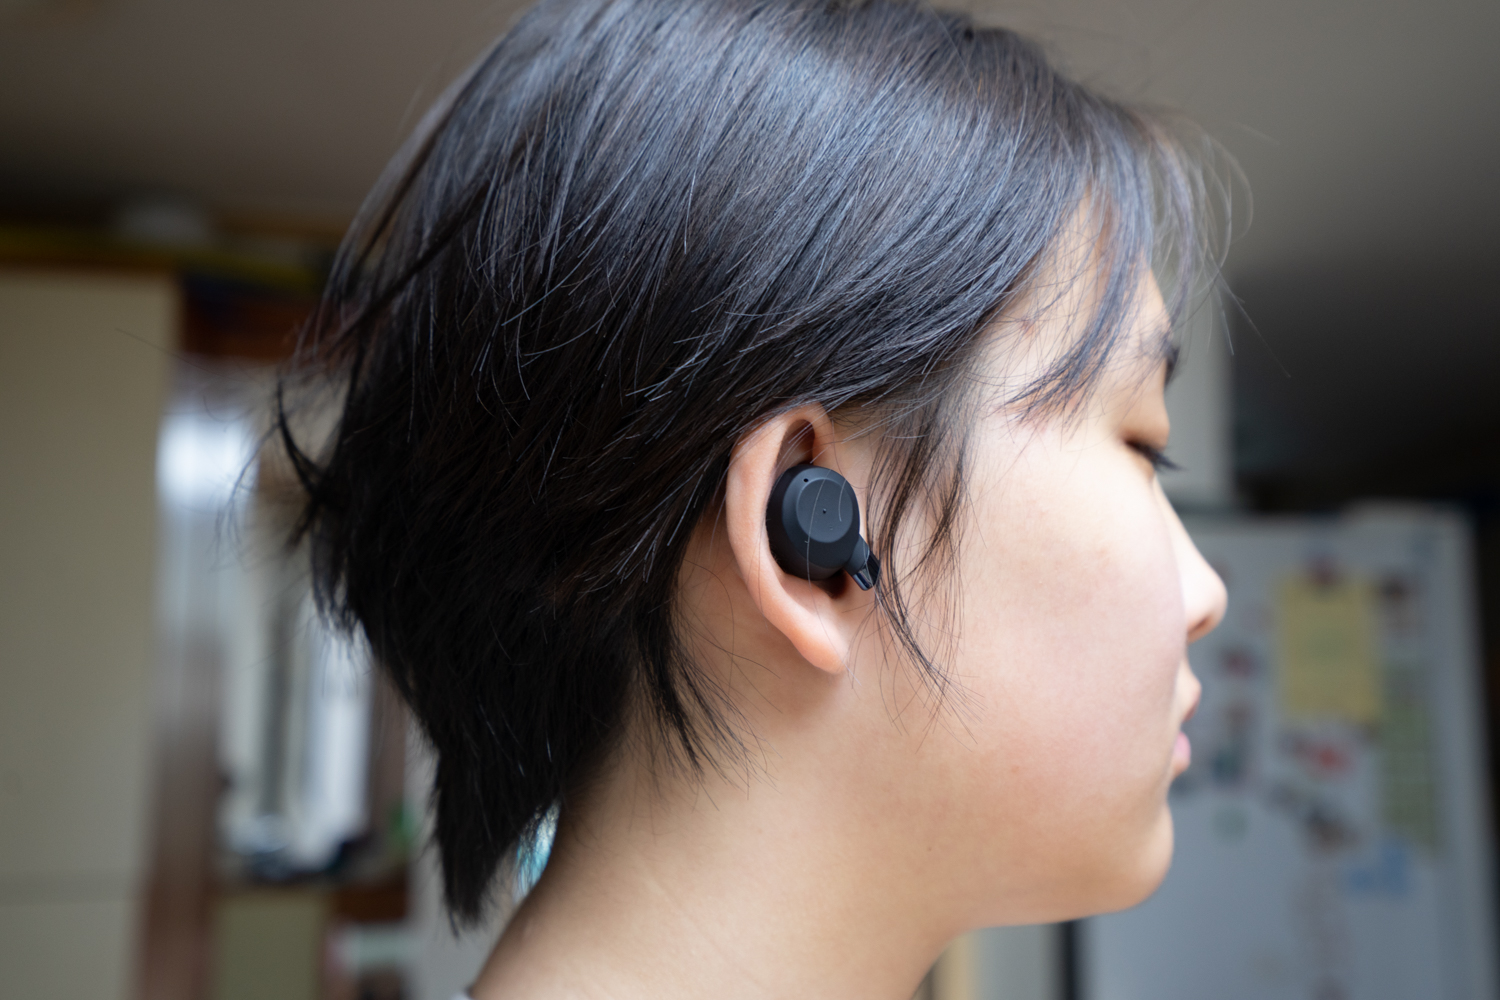earphone: (725, 405, 883, 676)
